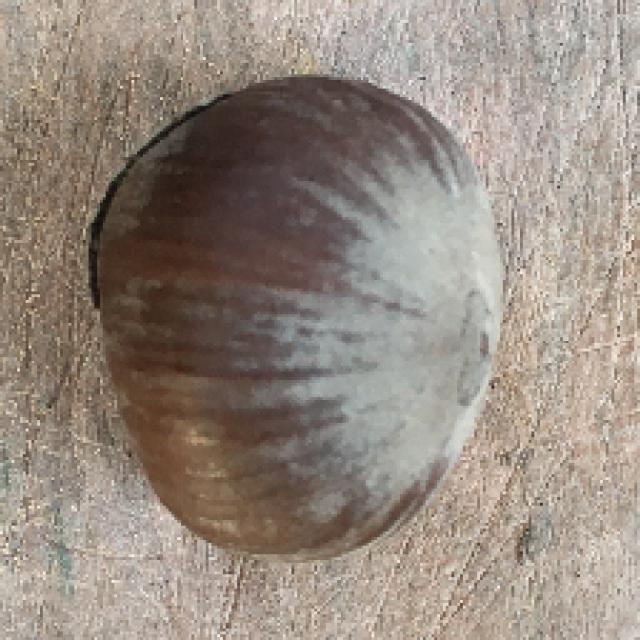damagedHazelnut: (84, 64, 502, 570)
